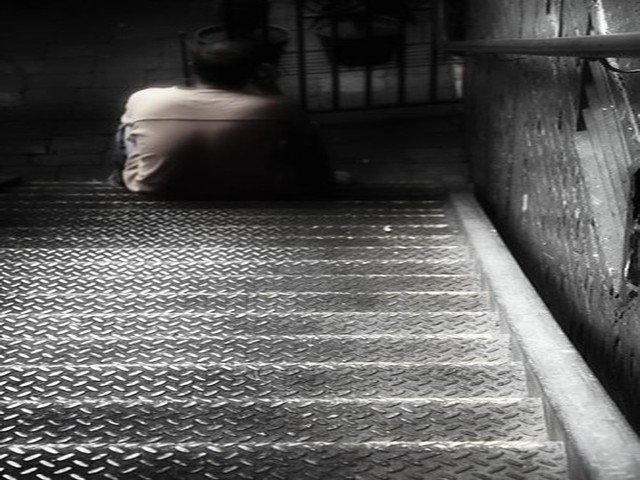Person: (99, 39, 355, 210)
